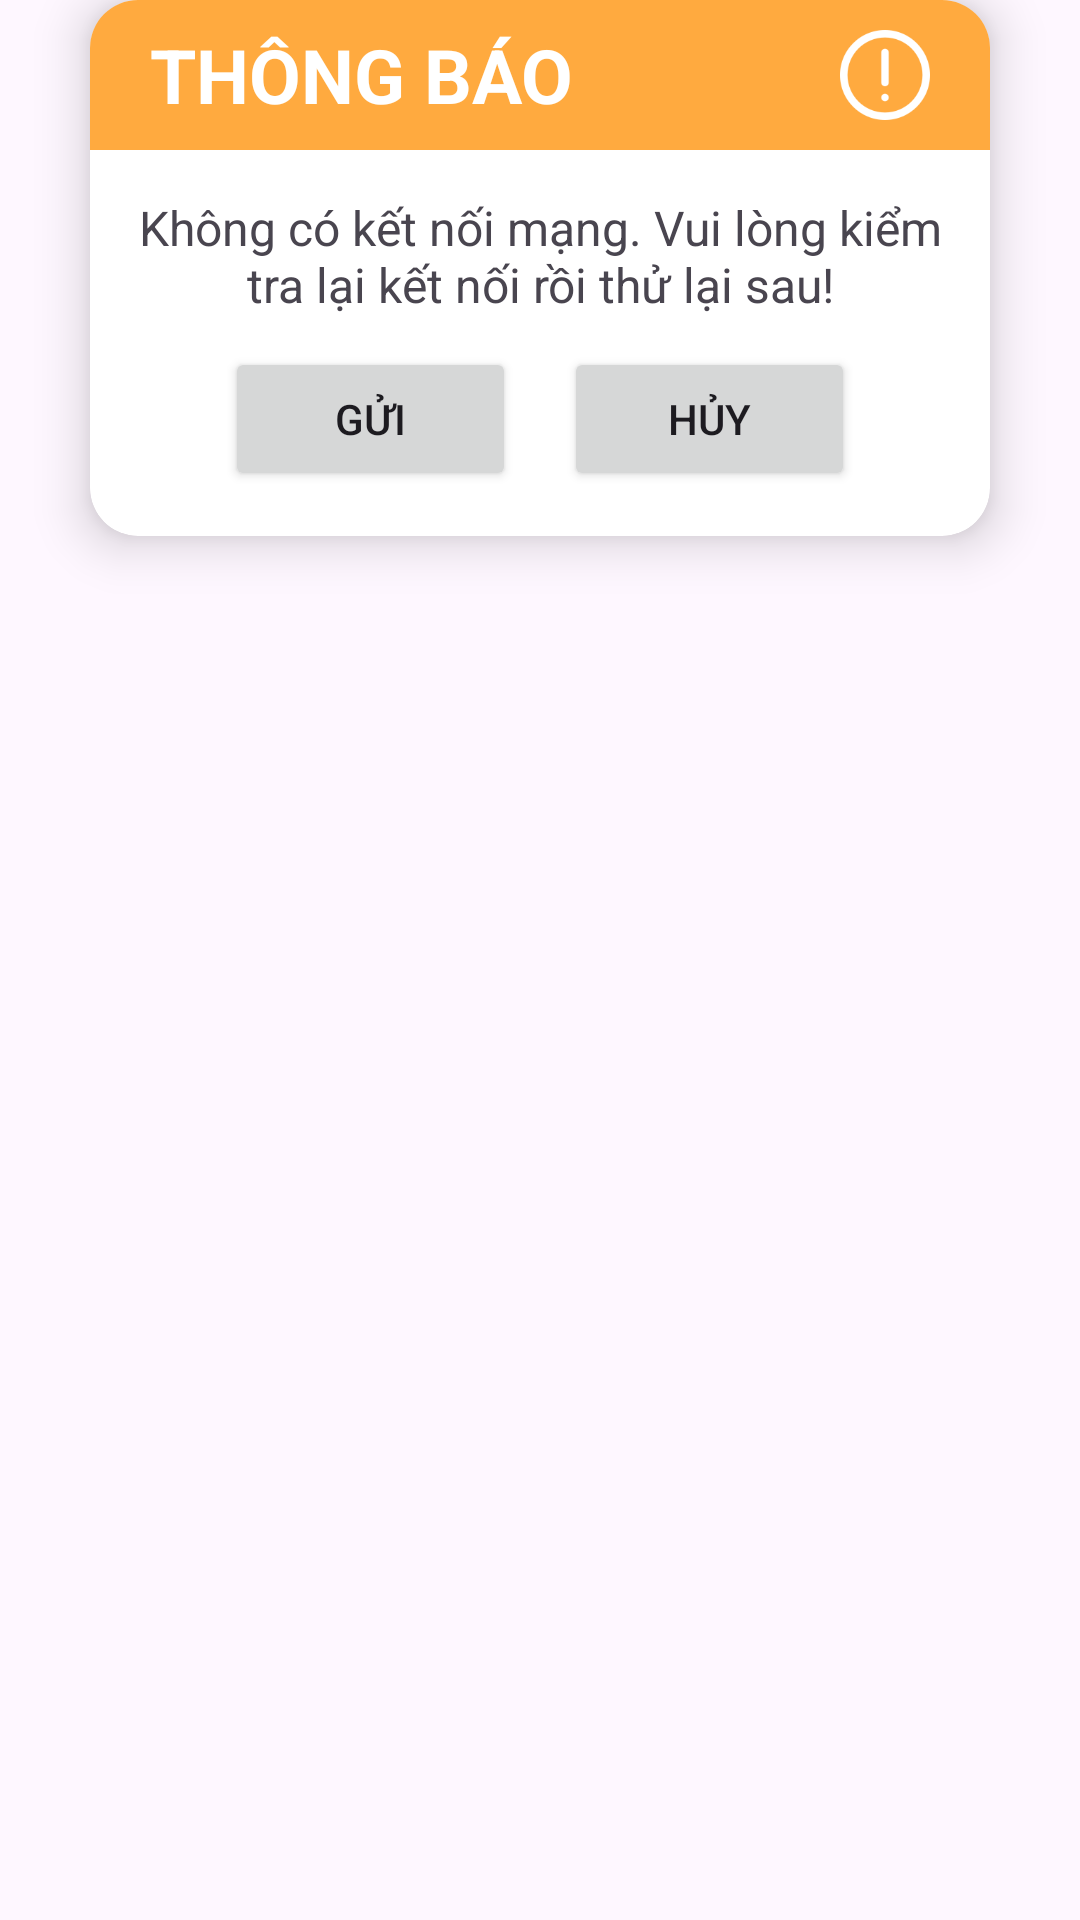

Point at icon controls on the screen. Image size 1080×1920, points as point (x, y).
error: point (885, 75)
